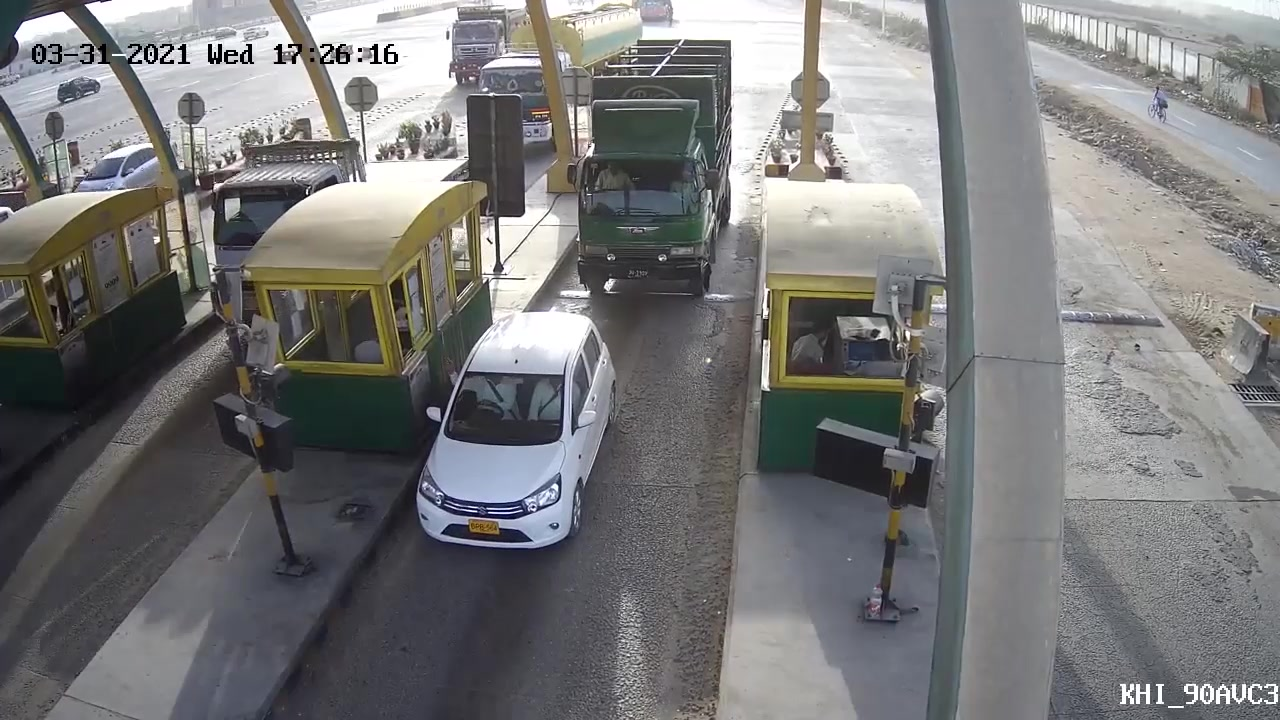F1: (398, 303, 630, 568)
F3: (571, 32, 737, 302)
